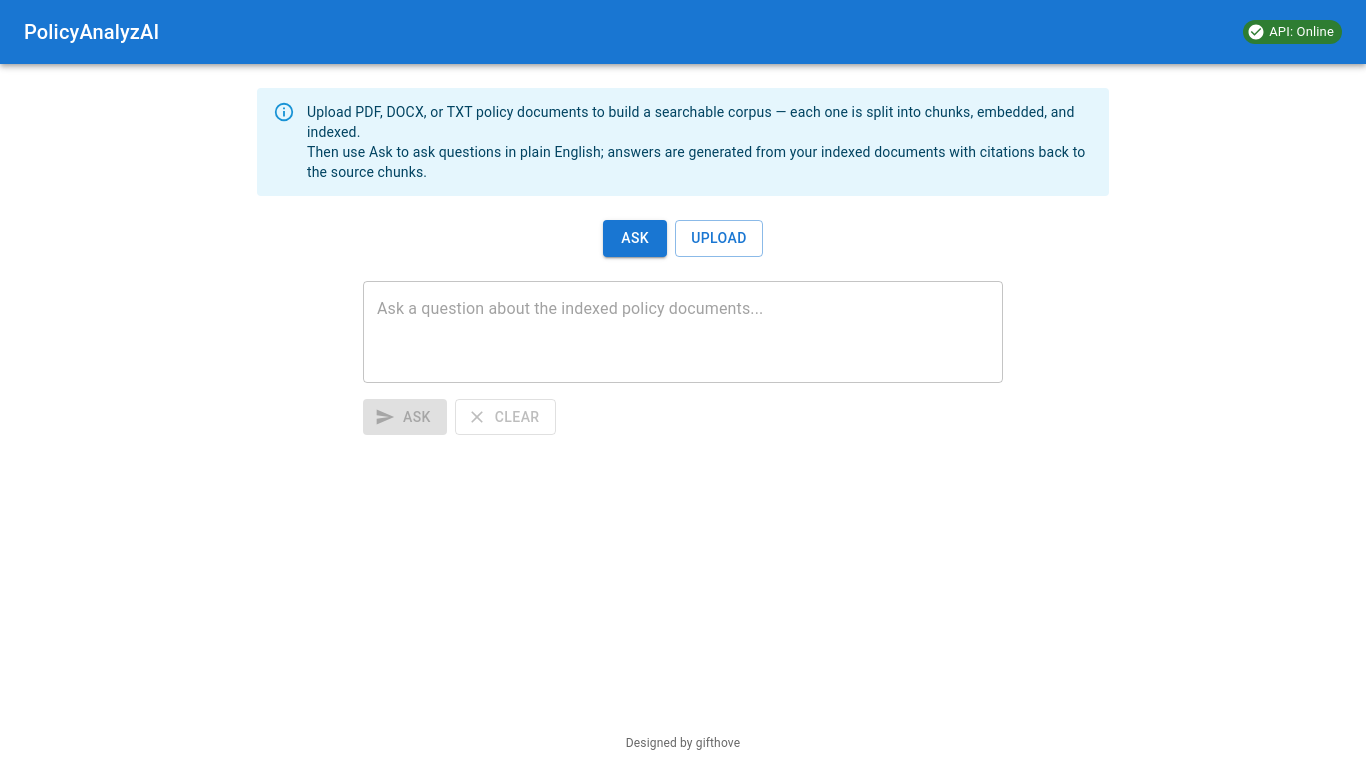
App › shows the Ask tab by default and can switch to Upload
This screenshot has width=1366, height=768.
expect the text box with placeholder "Ask a question about the indexed policy documents..." is shown: met, box [377,297,989,366]
Click the button "Upload" at (719, 238), box [675,220,763,257]
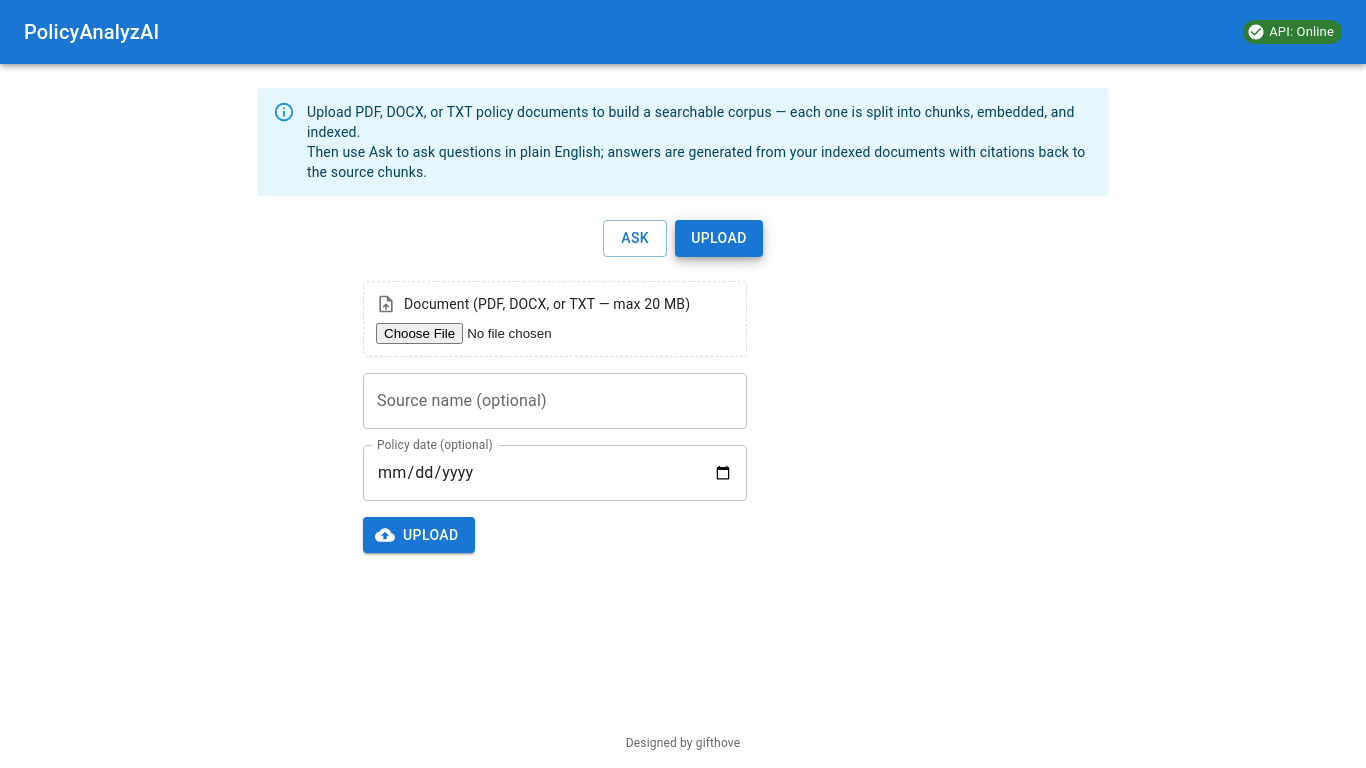
expect the field with placeholder "ask a question" is not shown: met
expect the file field labelled "Document (PDF, DOCX, or TXT — max 20 MB)" is shown: met, box [376,323,734,344]
